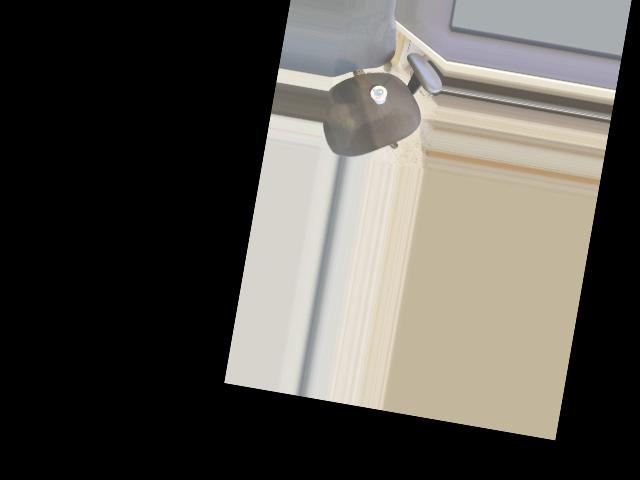cotage: (364, 82, 388, 109)
